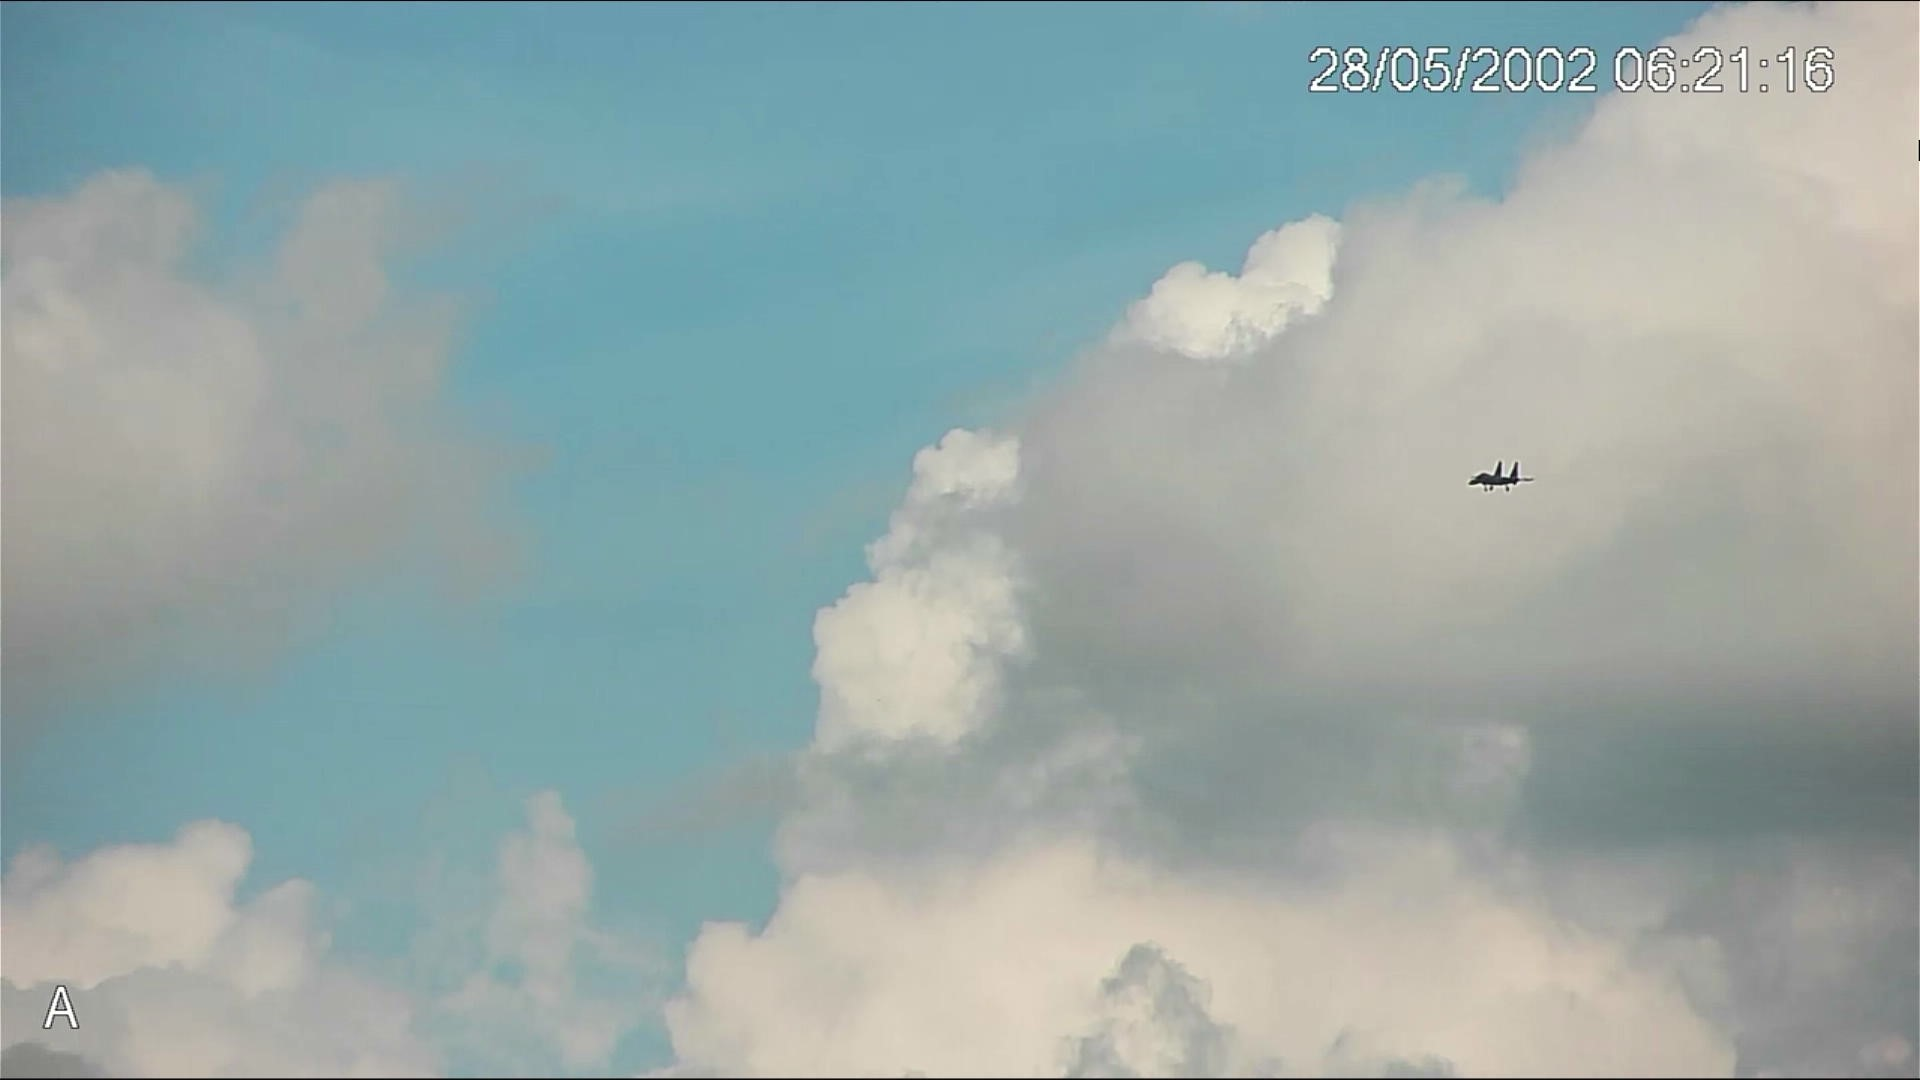SU_30: (1466, 459, 1534, 497)
